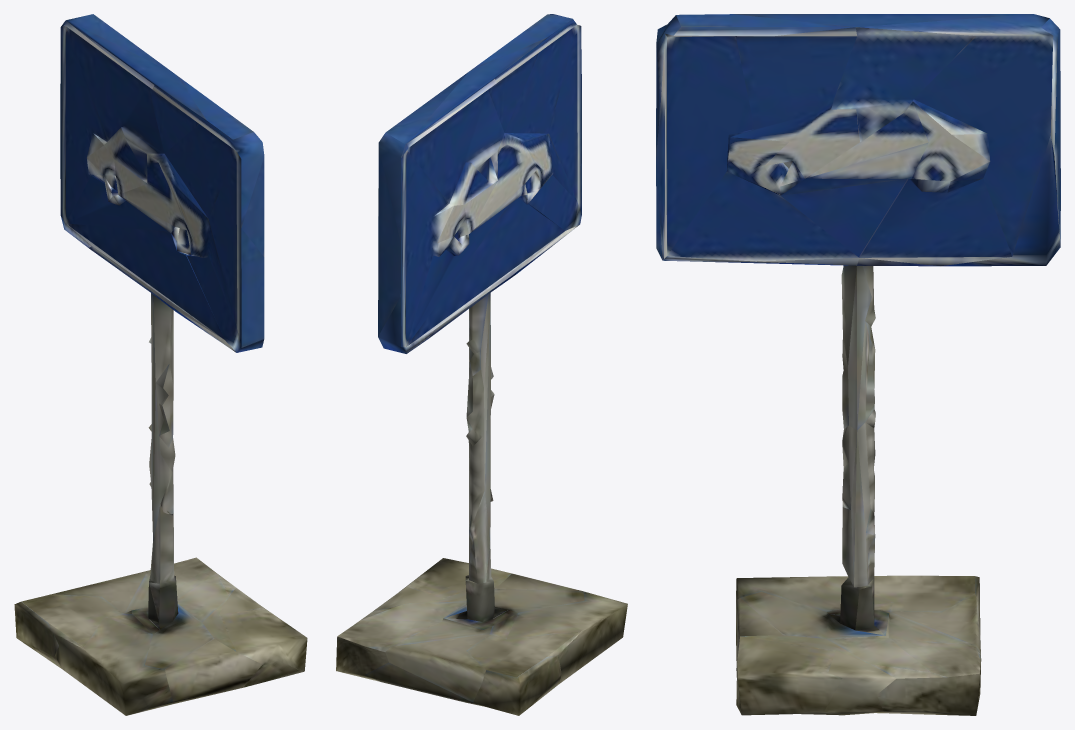
Rendered from rambu_mobil_lod2.glb.
3 renders of one model, left to right at view 1: azimuth 30°, elevation 25°; view 2: azimuth 150°, elevation 25°; view 3: azimuth 270°, elevation 25°, orthographic. The views are drawn at different scales.
Visible parts, largest first — view 1: tripo_node_99aa548f; view 2: tripo_node_99aa548f; view 3: tripo_node_99aa548f.
Part boxes in pixels (x1,y1,x2,y2): tripo_node_99aa548f: (14, 14, 307, 715); tripo_node_99aa548f: (336, 14, 627, 715); tripo_node_99aa548f: (656, 14, 1060, 715).
Size of the model in its own units: 33.68 by 99.98 by 56.71.
1 material, 1 textured.
